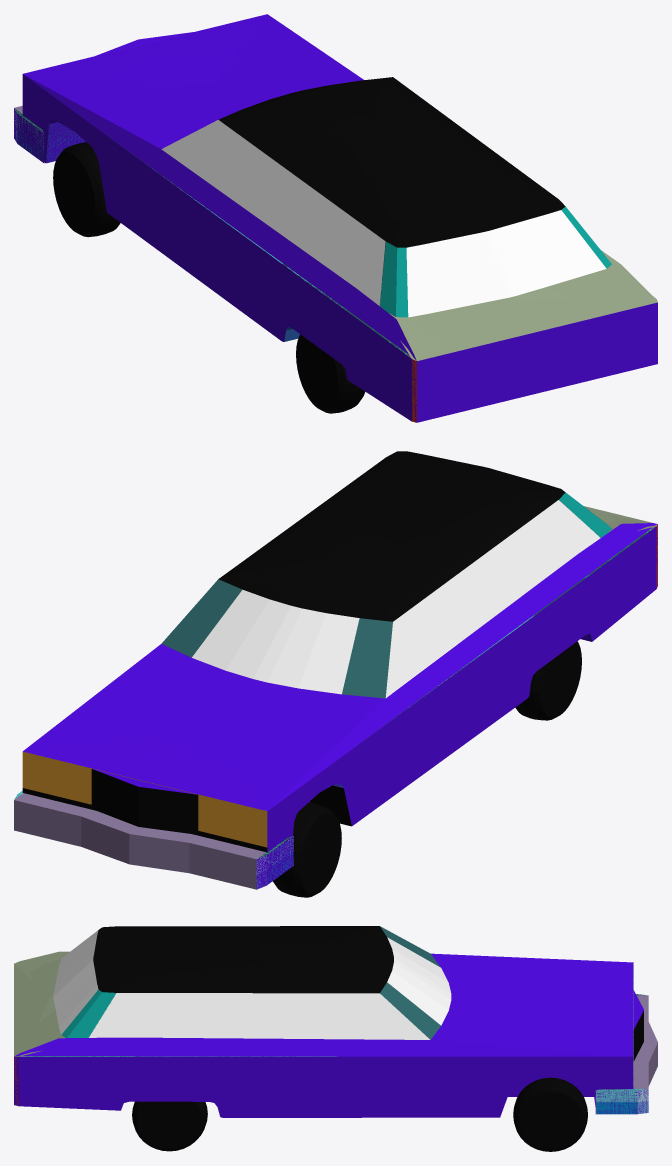
The model's file is AutoMio.fbx.
3 views of the same model, one above another, from view 1: azimuth 30°, elevation 25°; view 2: azimuth 150°, elevation 25°; view 3: azimuth 270°, elevation 25° (orthographic). The views are drawn at different scales.
Parts seen in each view (by area): view 1: Auto; view 2: Auto; view 3: Auto.
Part boxes in pixels (x1,y1,x2,y2): Auto: (14,14,657,422); Auto: (14,451,657,897); Auto: (14,926,657,1151).
Size of the model in its own units: 118 by 87.85 by 336.
Materials: 1 (1 with a texture image).
